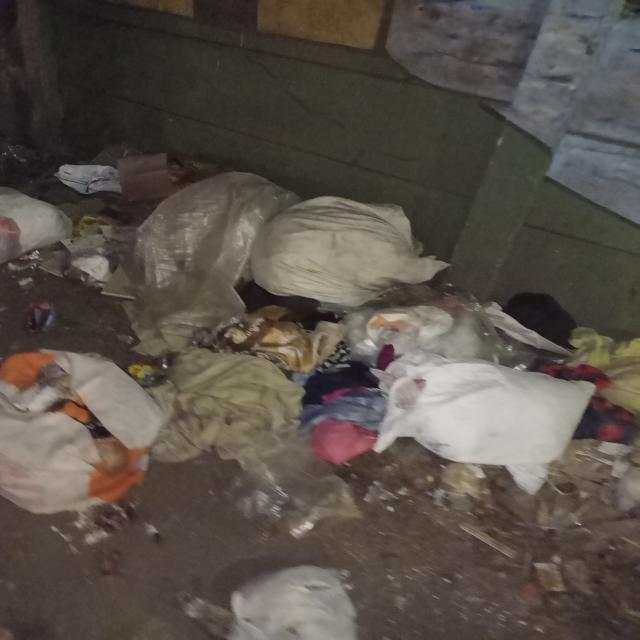garbage: (0, 150, 640, 553)
